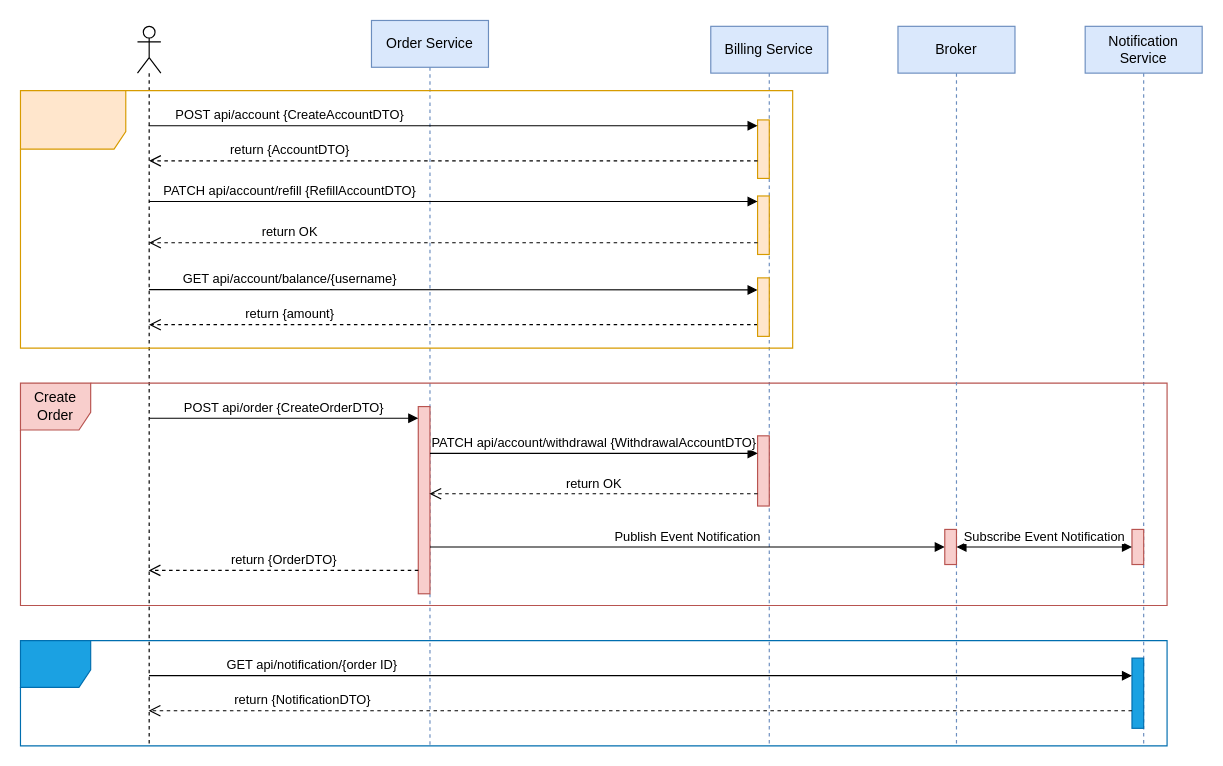
Image size: 1223x766. Some labels were removed from this diagram. The shapes that lost their labels are listed below. From the top down, each one's centre as x and y in pixels, then its label:
point 406,219: Create & Refill account
point 593,692: Check notice
